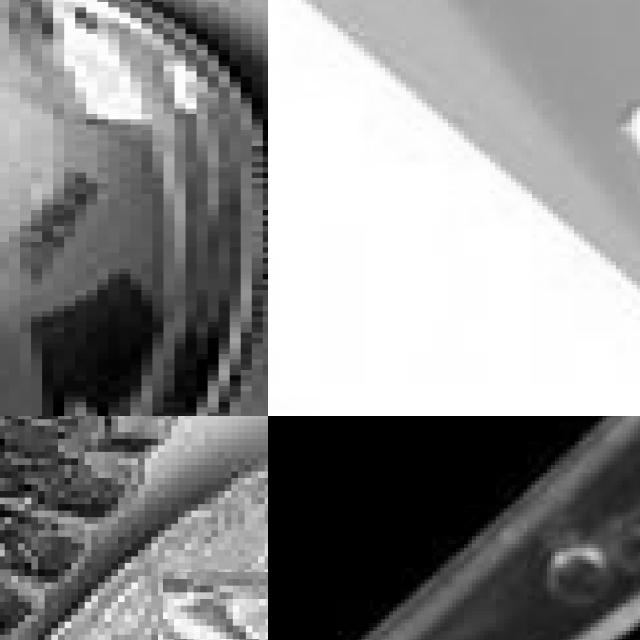forks: (268, 0, 640, 378), (0, 0, 268, 416)
